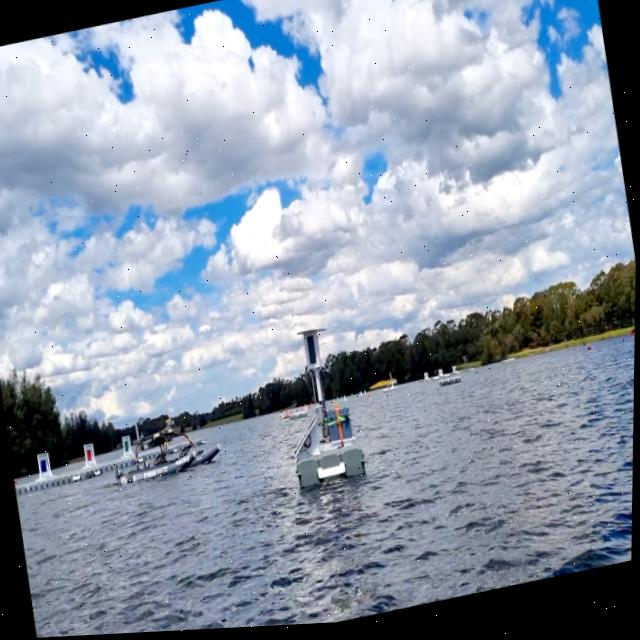led: (306, 336, 320, 369)
